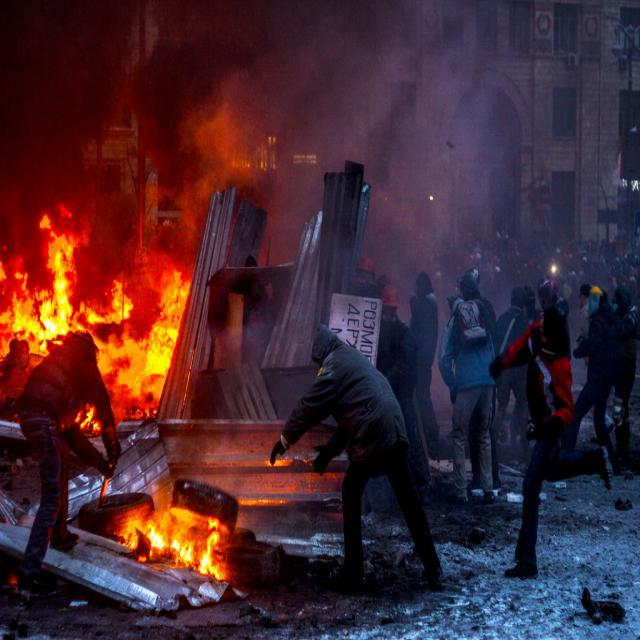Fire: (10, 288, 64, 338), (137, 525, 216, 553), (145, 318, 174, 379)
Smoke: (338, 38, 464, 188)
